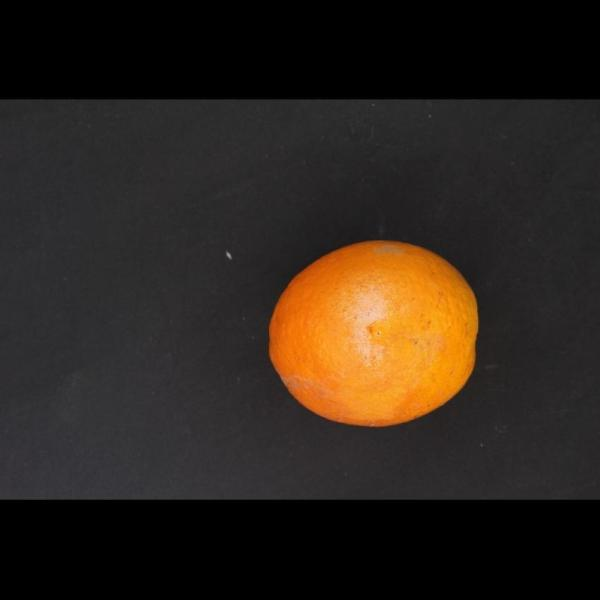Moho verde: (255, 226, 489, 440)
